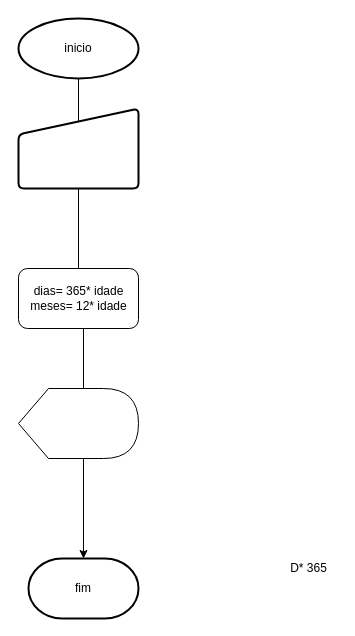
Image size: 355x636. Some labels were removed from this diagram. Each missing label, with the box of its shape:
idade, 12,365: (17, 107, 139, 189)
meses idade: (18, 388, 138, 458)
